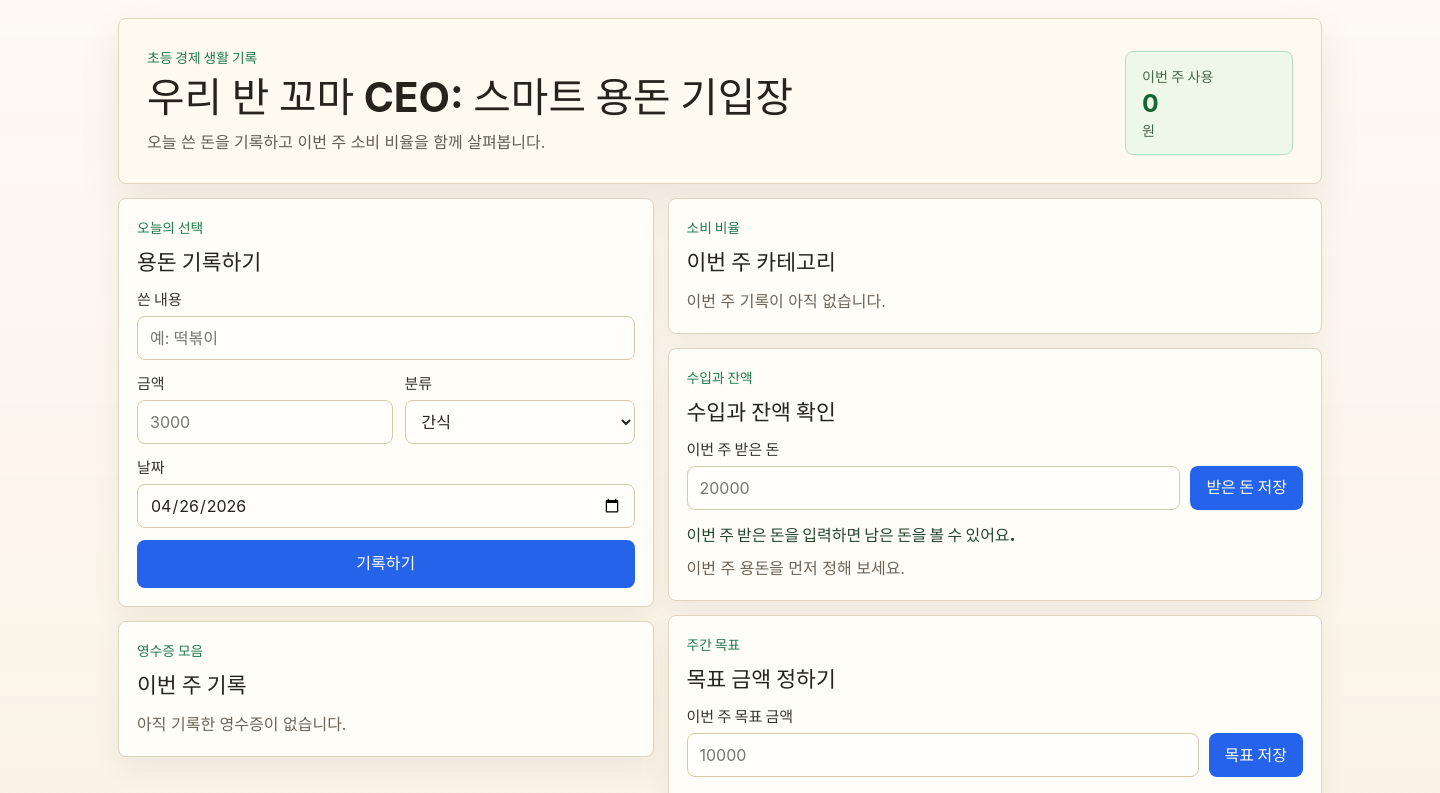
Test case: shows an item name validation message and does not create a receipt
The width and height of the screenshot is (1440, 793).
Type "1200" into the number field labelled "금액" at (265, 422), box [137, 400, 392, 444]
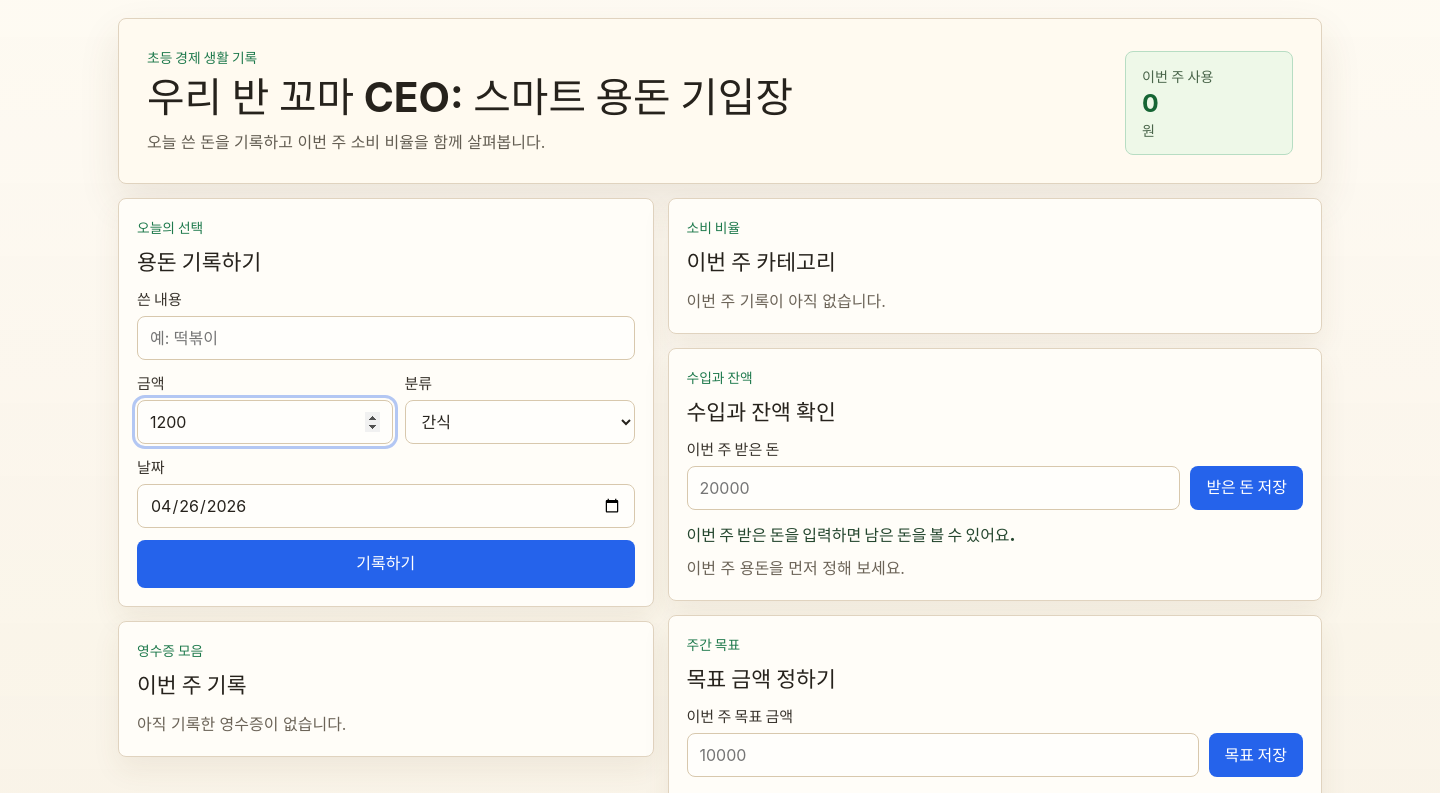
Click the button "기록하기" at (386, 564), box [137, 540, 634, 588]
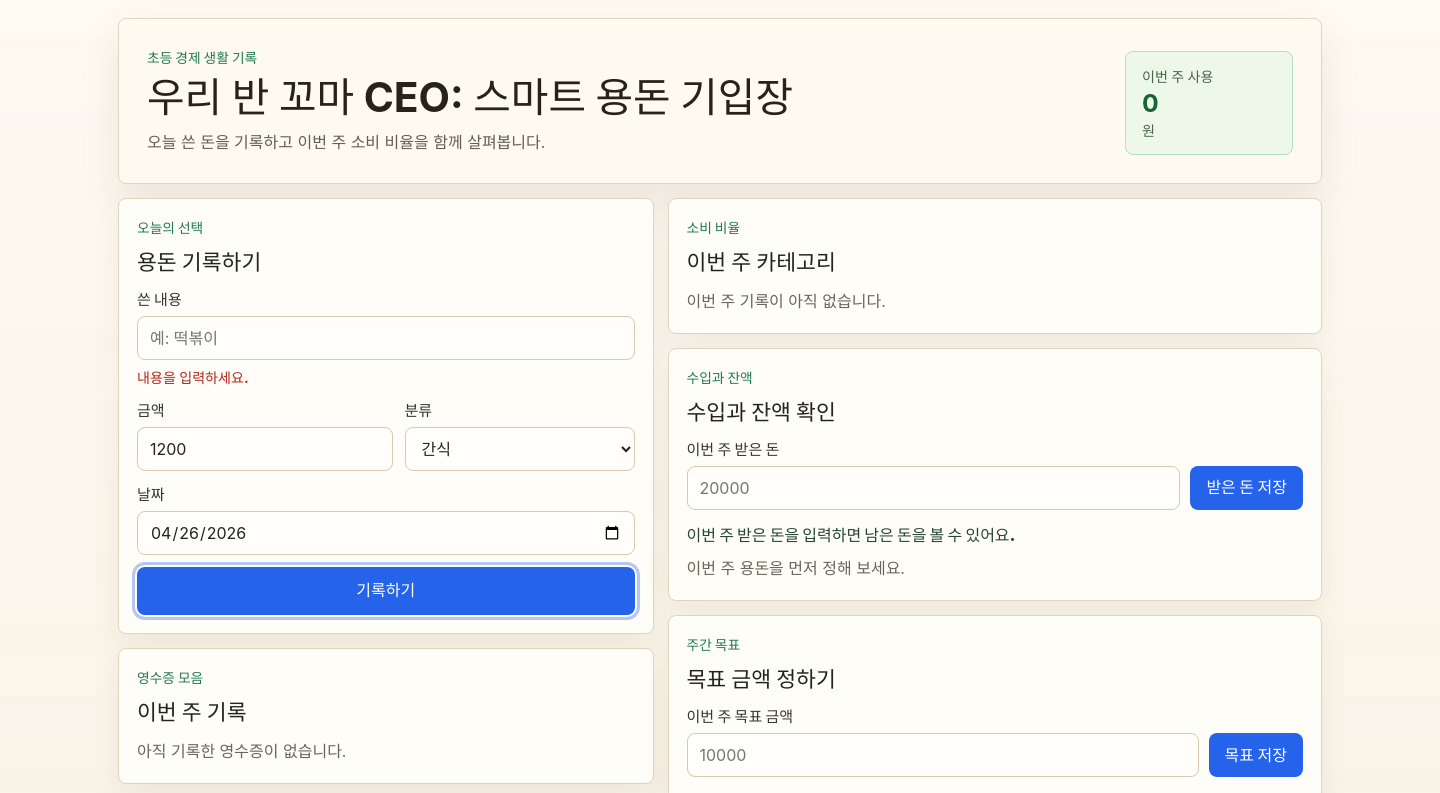
Check: the text "아직 기록한 영수증이 없습니다." is shown, box [137, 741, 346, 761]
Check: the text "내용을 입력하세요." is shown, box [137, 369, 249, 386]
